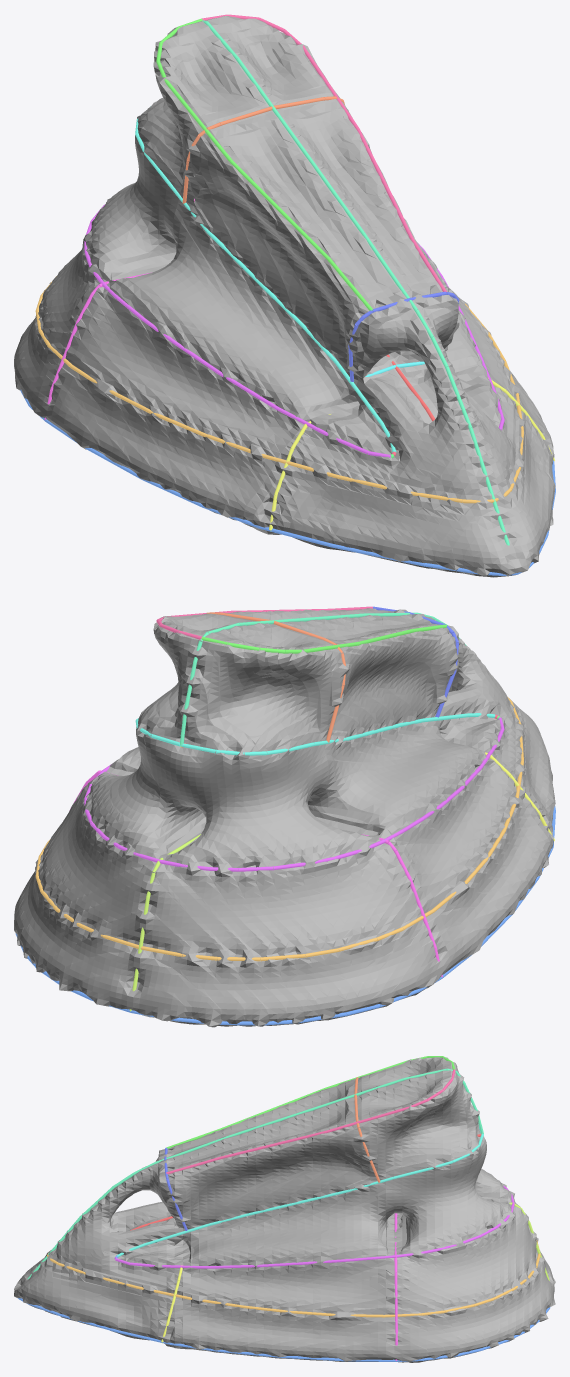
File: t2f_iron.gltf
3 renders of one model, top to bottom at view 1: azimuth 30°, elevation 25°; view 2: azimuth 150°, elevation 25°; view 3: azimuth 270°, elevation 25°, orthographic. The views are drawn at different scales.
Bounding box in the file's own units: 0.478 × 0.4108 × 0.8081.
